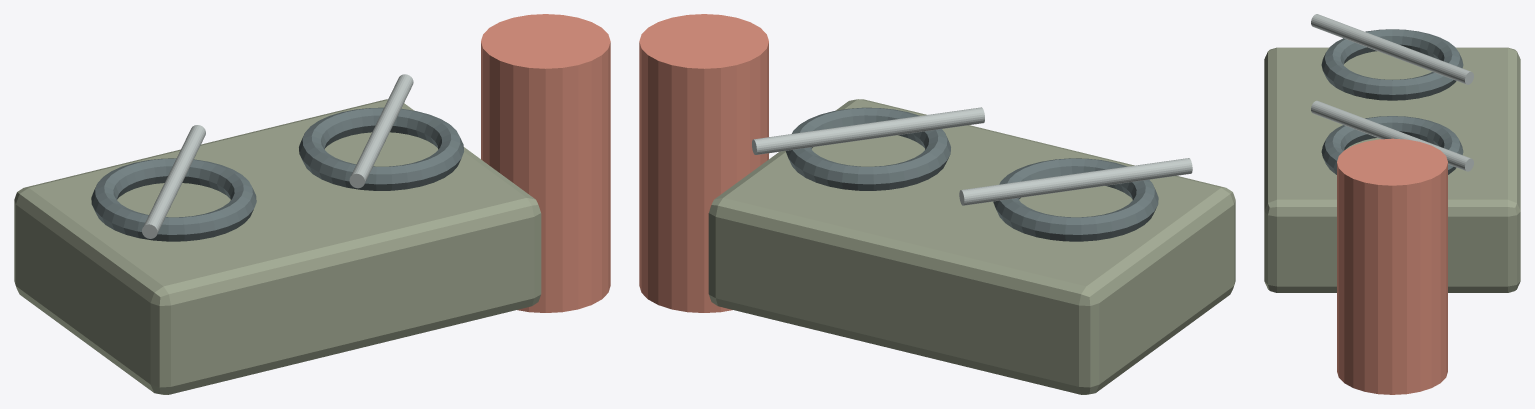
The picture shows the model from 3 angles, left to right: view 1: azimuth 30°, elevation 25°; view 2: azimuth 150°, elevation 25°; view 3: azimuth 270°, elevation 25°; orthographic projection. The views are drawn at different scales.
Visible parts, largest first — view 1: stove, fuel bottle, burner, burner.001, pot rail.001, pot rail; view 2: stove, fuel bottle, burner, burner.001, pot rail, pot rail.001; view 3: stove, fuel bottle, burner, burner.001, pot rail, pot rail.001.
Boxes of the visible parts, box(x1,y1,x2,y2) form: stove: box(14, 99, 541, 394); fuel bottle: box(481, 14, 610, 312); burner: box(91, 158, 256, 241); burner.001: box(299, 107, 463, 190); pot rail.001: box(349, 74, 413, 188); pot rail: box(142, 125, 205, 238); stove: box(708, 99, 1235, 394); fuel bottle: box(639, 14, 768, 312); burner: box(993, 158, 1158, 241); burner.001: box(786, 107, 950, 190); pot rail: box(959, 158, 1192, 205); pot rail.001: box(752, 107, 984, 154); stove: box(1264, 47, 1520, 292); fuel bottle: box(1337, 138, 1447, 394); burner: box(1321, 29, 1463, 100); burner.001: box(1321, 116, 1463, 174); pot rail: box(1311, 14, 1473, 84); pot rail.001: box(1311, 100, 1473, 171).
Size of the model in its own units: 0.6 by 0.27 by 0.3.
